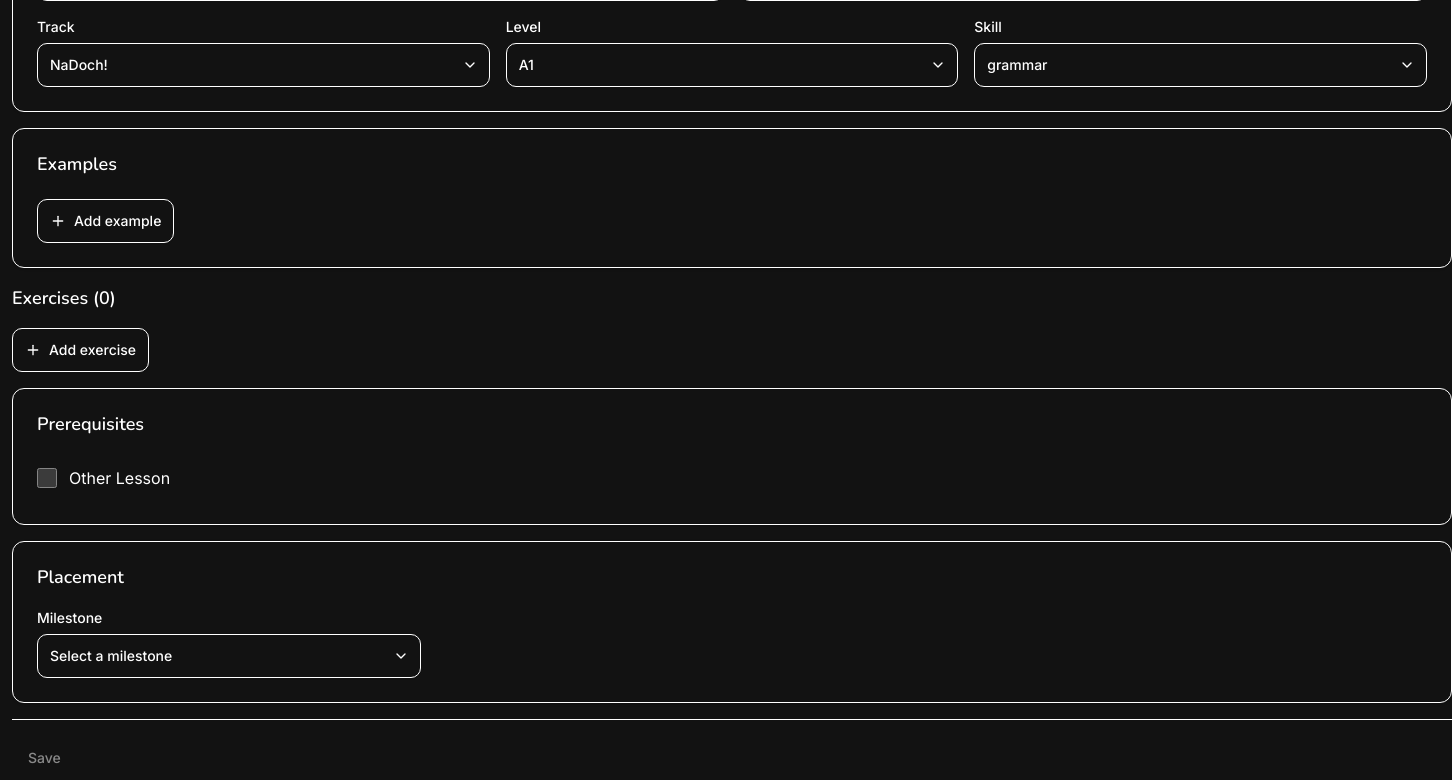
LessonEditorForm › changing track after selecting a placement clears it and disables Save again
(page scrolled)
Select "1. Milestone 1" in the dropdown labelled "Milestone" at (229, 656), box [37, 634, 421, 678]
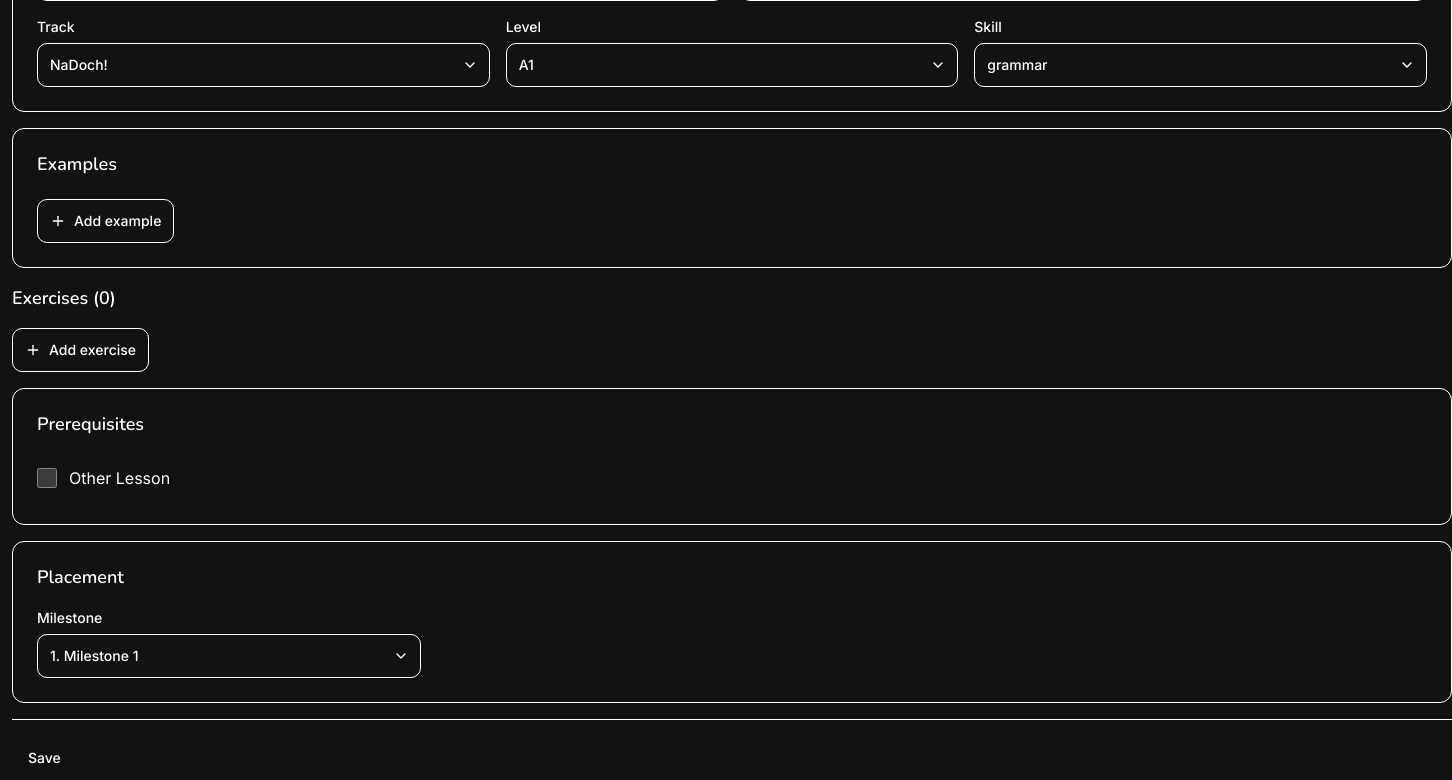
Check: the button "Save" is enabled, box [12, 736, 77, 779]
Select "telc" in the dropdown labelled "Track" at (263, 64), box [37, 42, 490, 86]
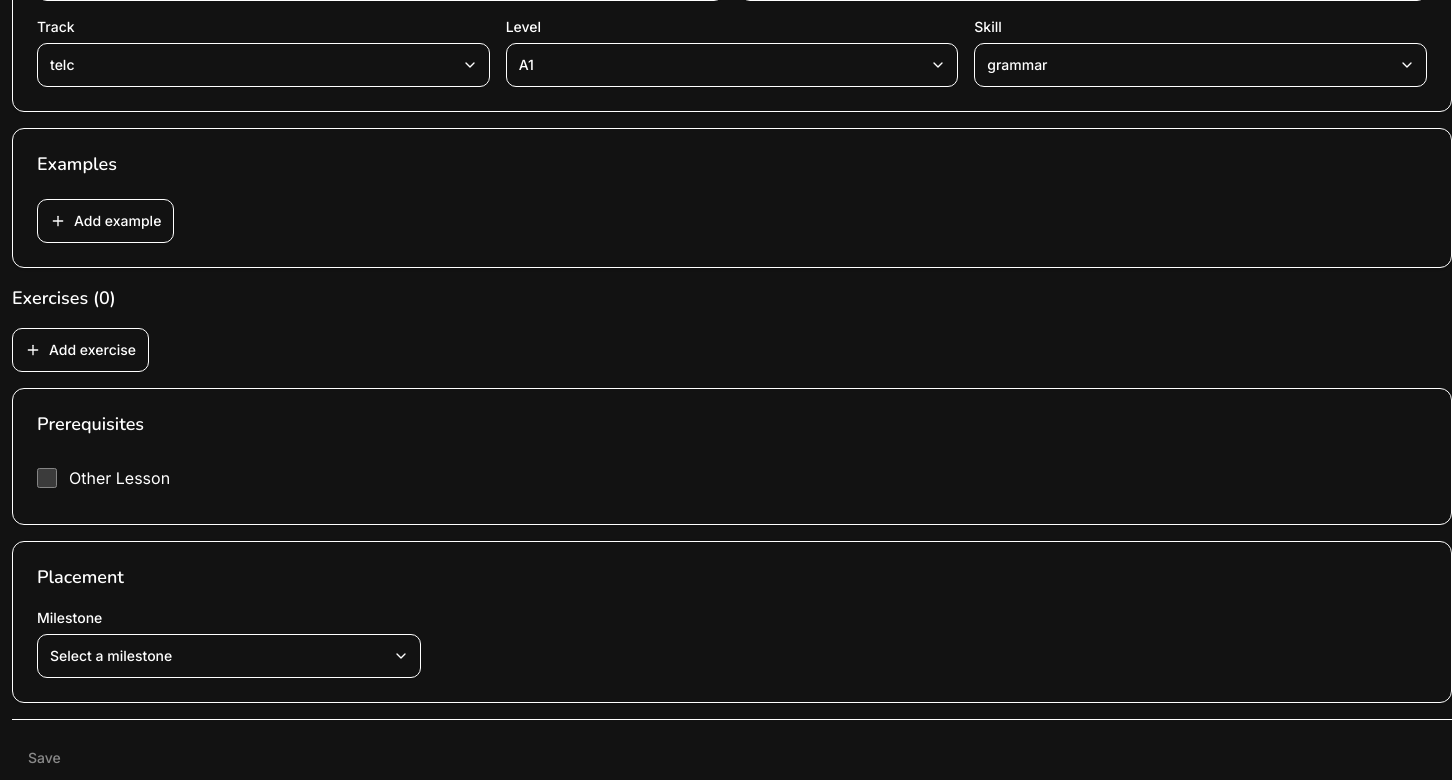
Check: the button "Save" is disabled, box [12, 736, 77, 779]
Check: the dropdown labelled "Milestone" shows "Select a milestone", box [37, 634, 421, 678]
